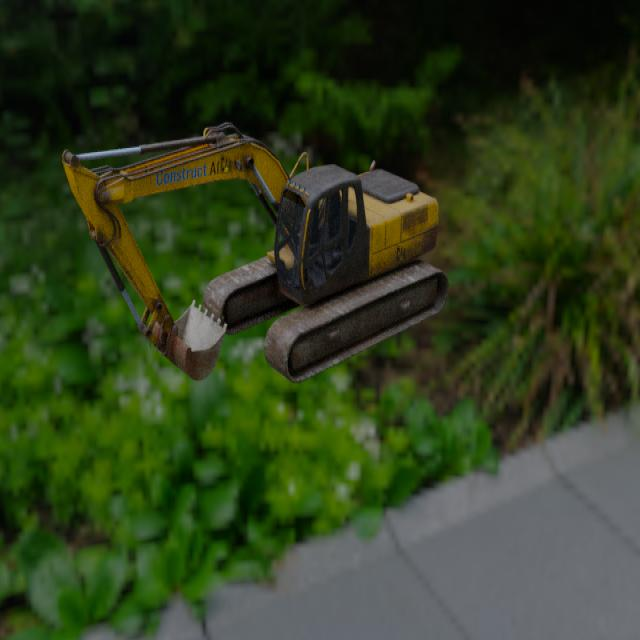excavator: (61, 121, 449, 384)
